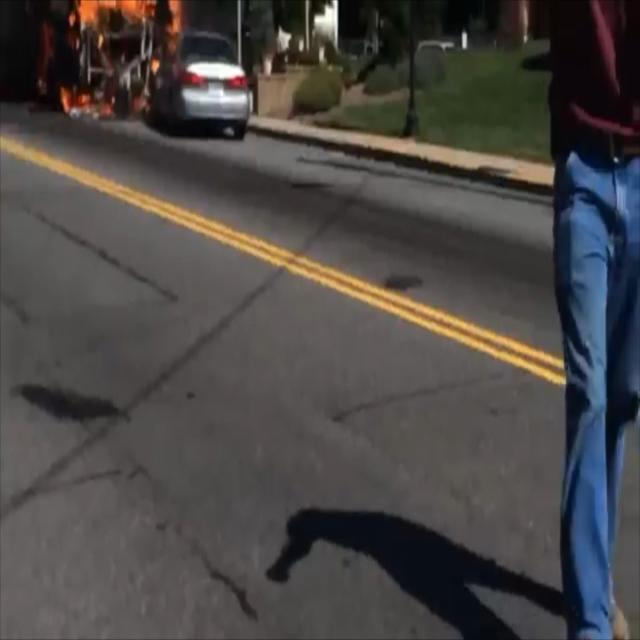fire: (40, 0, 184, 90)
